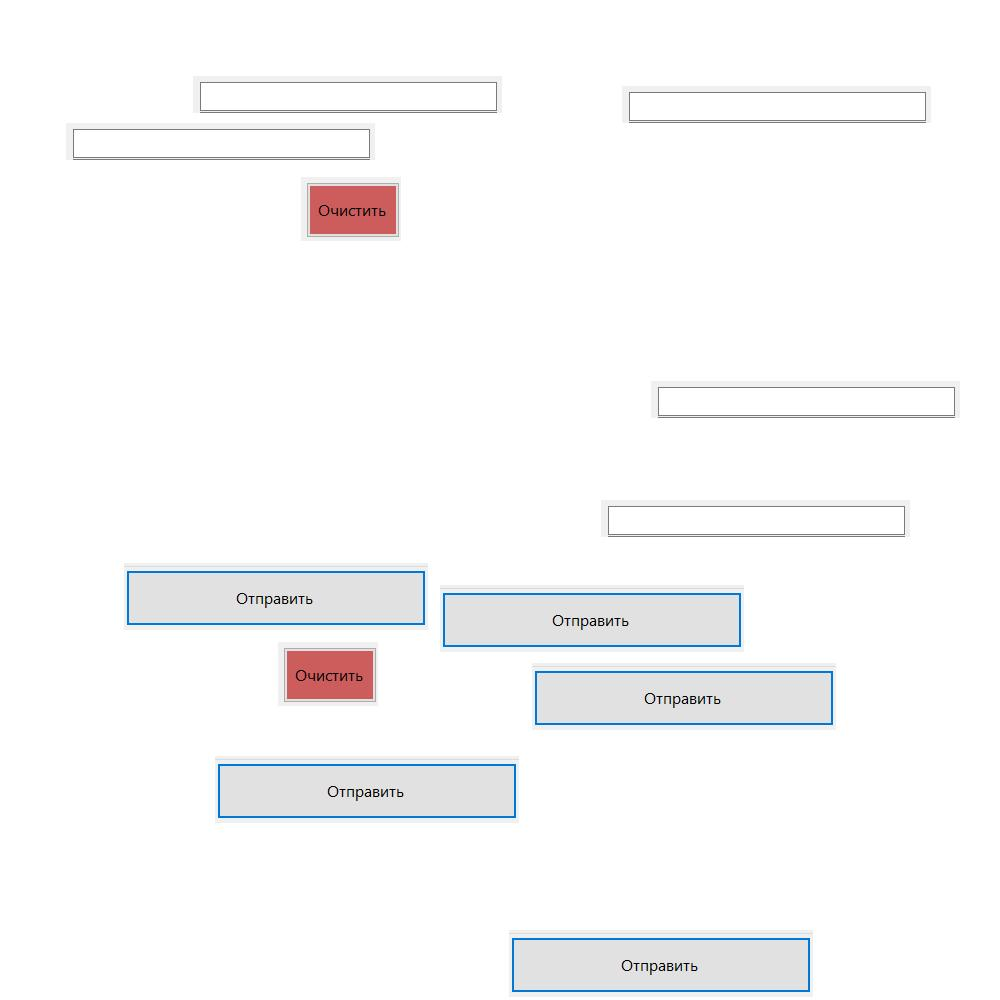Button: (440, 585, 744, 652), (532, 663, 836, 730), (215, 756, 519, 823), (124, 563, 428, 630), (509, 930, 813, 997), (301, 177, 401, 241), (278, 642, 378, 706)
EditText-: (601, 500, 910, 537), (66, 123, 375, 160), (622, 86, 931, 123), (651, 381, 960, 418), (193, 76, 502, 113)
